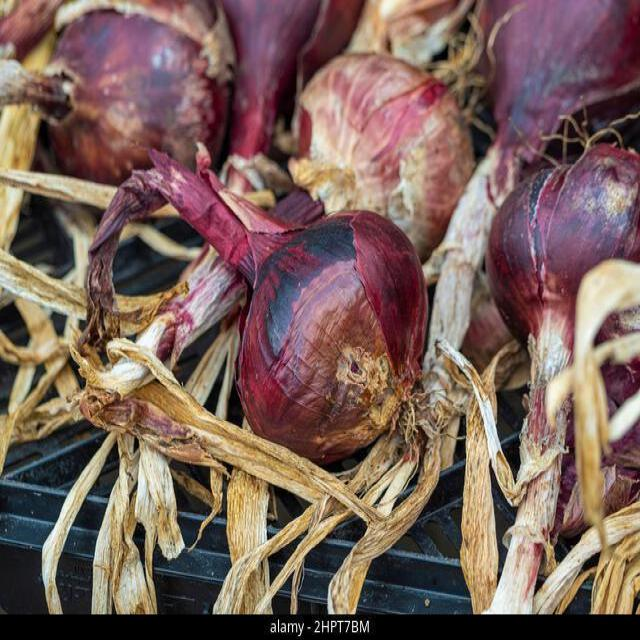Onion: (238, 207, 450, 457), (288, 50, 474, 266), (489, 129, 640, 369), (38, 1, 232, 186), (478, 0, 640, 159), (223, 0, 366, 92)
